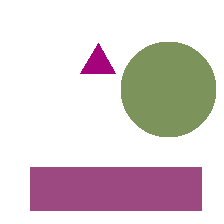circle: (121, 42, 215, 136)
rectangle: (30, 167, 201, 210)
triangle: (80, 43, 115, 73)
